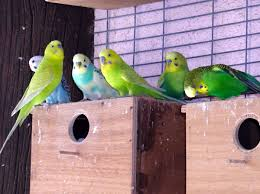budgie: (8, 38, 68, 138), (185, 60, 260, 101), (97, 49, 161, 97), (69, 53, 108, 101), (162, 50, 188, 92), (28, 54, 44, 75)
